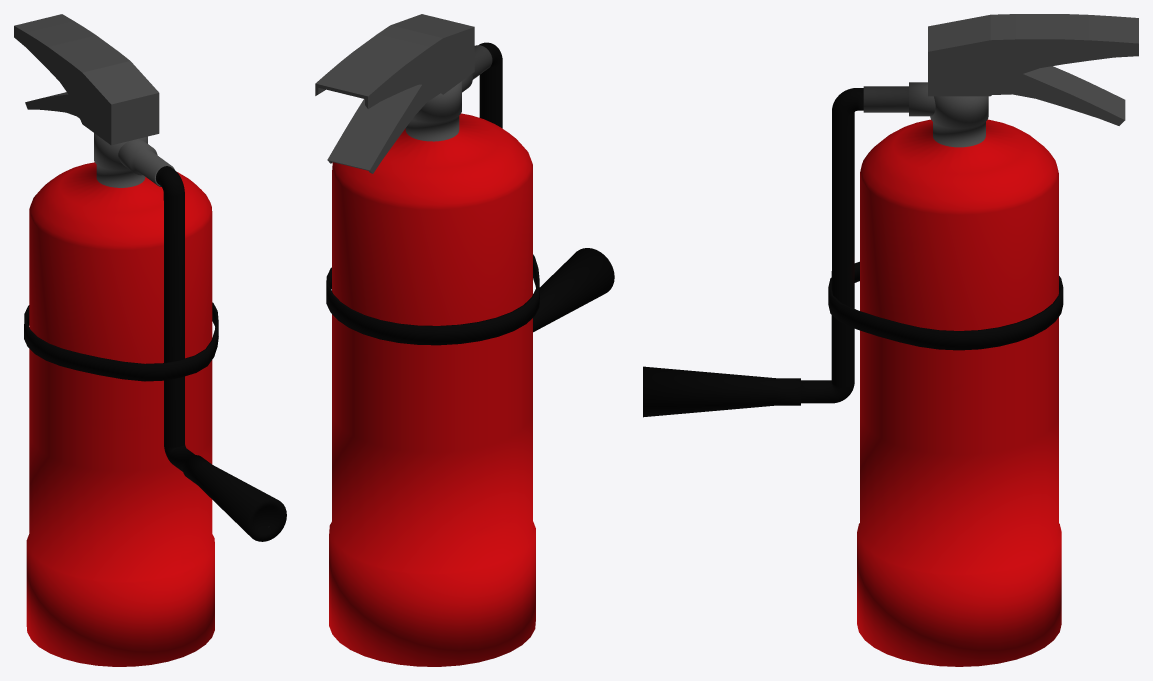
The model's file is Fire Extinguisher.fbx.
The picture shows the model from 3 angles, left to right: view 1: azimuth 30°, elevation 25°; view 2: azimuth 150°, elevation 25°; view 3: azimuth 270°, elevation 25°; orthographic projection. The views are drawn at different scales.
Parts seen in each view (by area): view 1: Extinguisher; view 2: Extinguisher; view 3: Extinguisher.
Part boxes in pixels (box(x1,y1,x2,y2)): Extinguisher: box(14, 14, 286, 666); Extinguisher: box(315, 14, 614, 666); Extinguisher: box(643, 14, 1138, 666).
Size of the model in its own units: 216 by 662 by 499.
